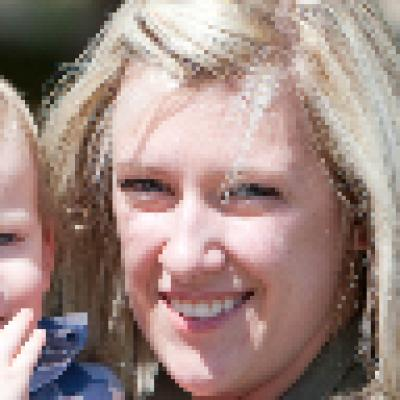happy: (79, 43, 370, 396)
